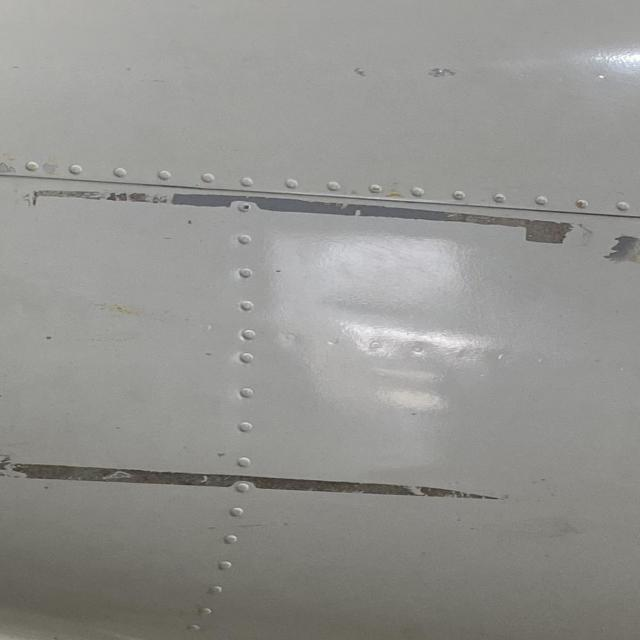Paint-off: (431, 66, 460, 78), (356, 66, 368, 76)
